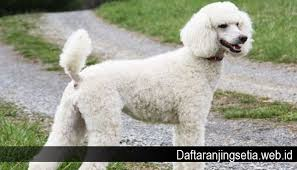Poodle: (34, 2, 273, 150)
